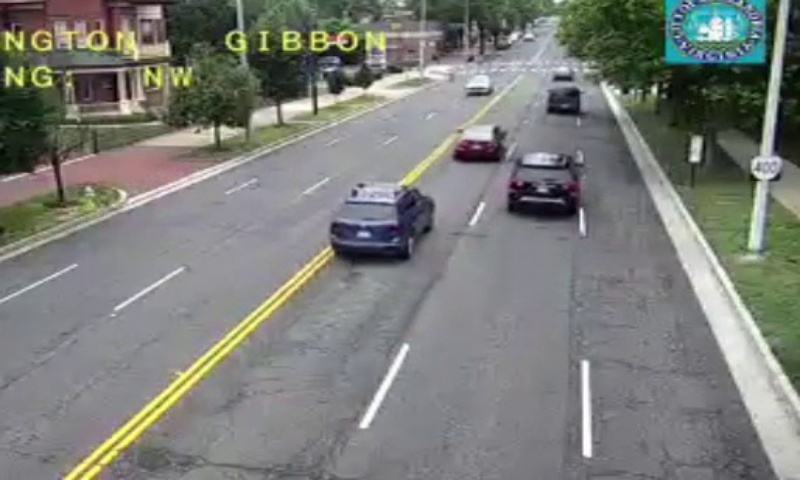car: (329, 185, 435, 252), (508, 152, 580, 205), (454, 127, 501, 159), (546, 86, 580, 113)
